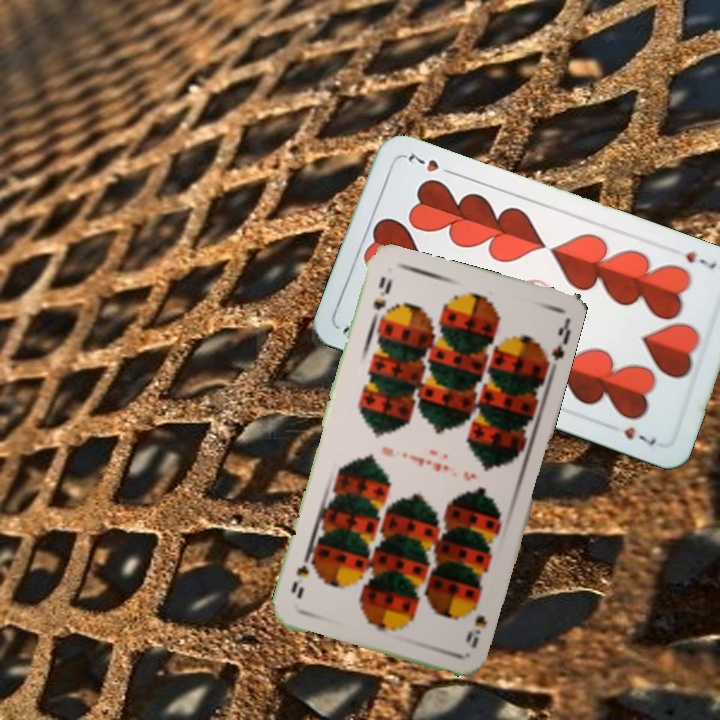H7: (681, 246, 719, 272)
S9: (462, 611, 490, 651), (369, 272, 394, 313)
